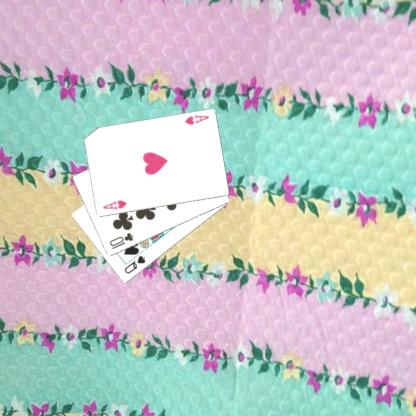10C: (106, 230, 135, 251)
AH: (100, 197, 128, 212), (182, 112, 210, 127)
QS: (121, 253, 147, 275)
